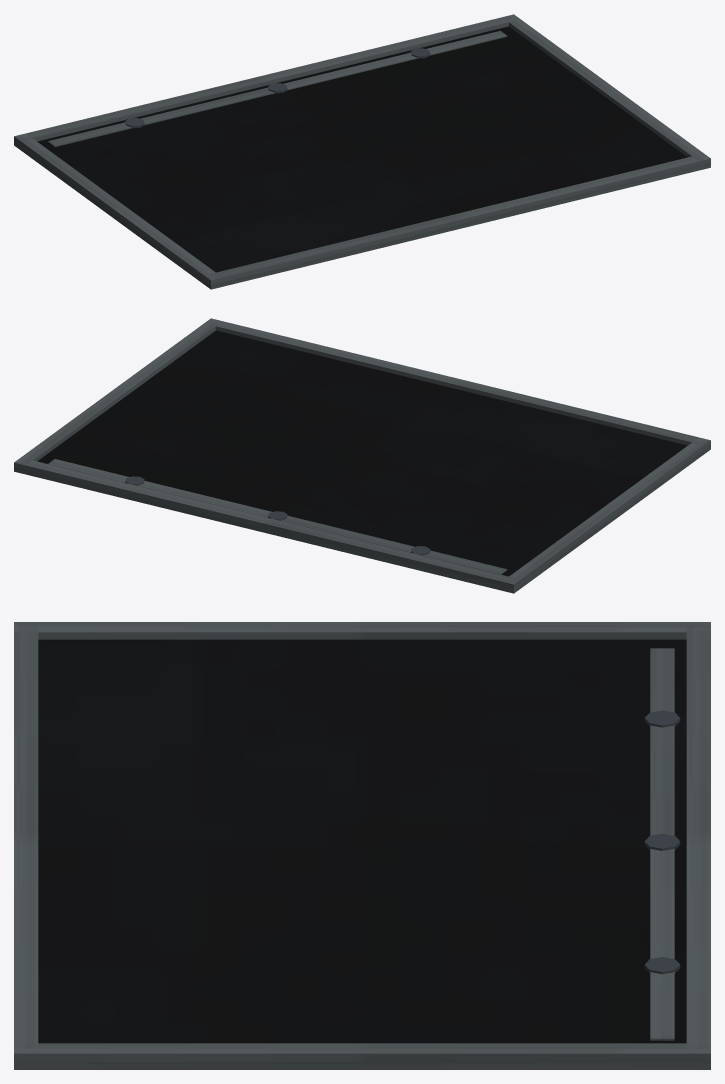
Rendered from fac_yard_asphalt.glb.
3 views of the same model, one above another, from view 1: azimuth 30°, elevation 25°; view 2: azimuth 150°, elevation 25°; view 3: azimuth 270°, elevation 25° (orthographic). The views are drawn at different scales.
Parts seen in each view (by area): view 1: FAC_YARD_ASPHALT; view 2: FAC_YARD_ASPHALT; view 3: FAC_YARD_ASPHALT.
Part boxes in pixels (bbox=[...]): FAC_YARD_ASPHALT: bbox=[14, 14, 710, 289]; FAC_YARD_ASPHALT: bbox=[14, 318, 710, 593]; FAC_YARD_ASPHALT: bbox=[14, 622, 710, 1069].
Size of the model in its own units: 12.6 by 0.22 by 8.6.
Materials: 3 (2 with a texture image).
